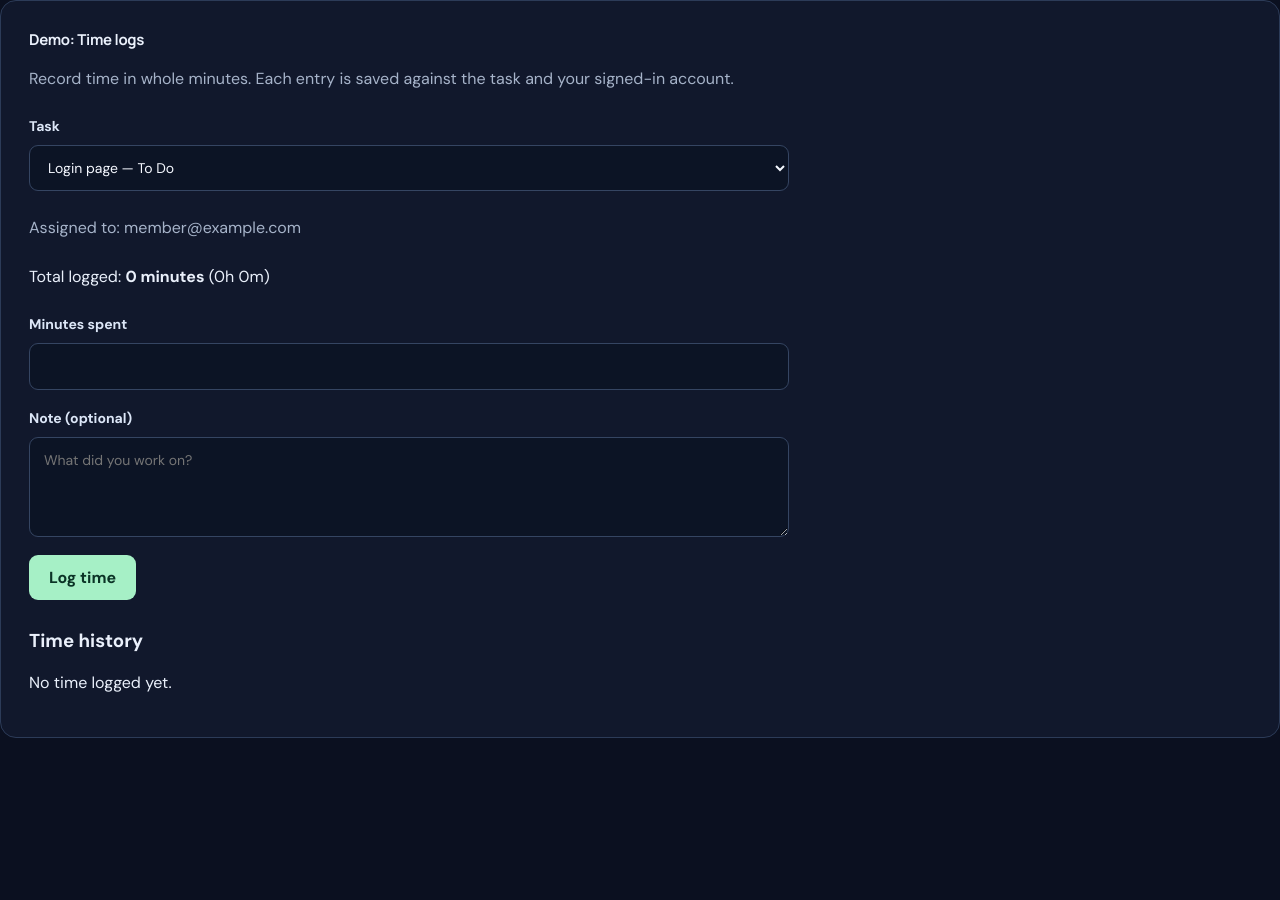
Test: saves numeric minutes and note, refreshes total and clears form
Expected: the text "No time logged yet." is shown, [29,672,172,692]
Step 1. Type "30" into the number field labelled "Minutes spent" → (409, 366), box [29,343,789,390]
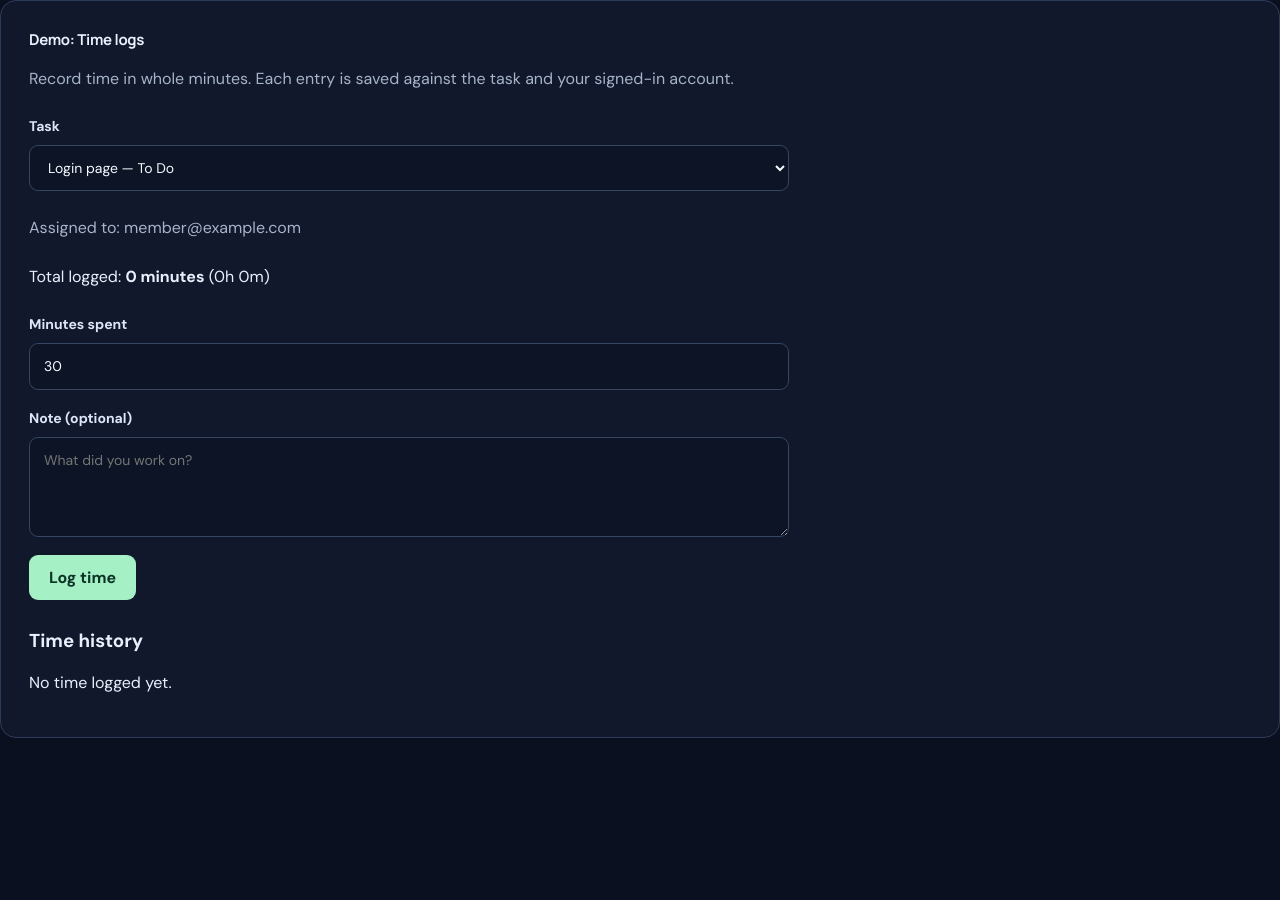
Step 2. Type "Built form" into the text box labelled "Note (optional)" → (409, 487), box [29,437,789,537]
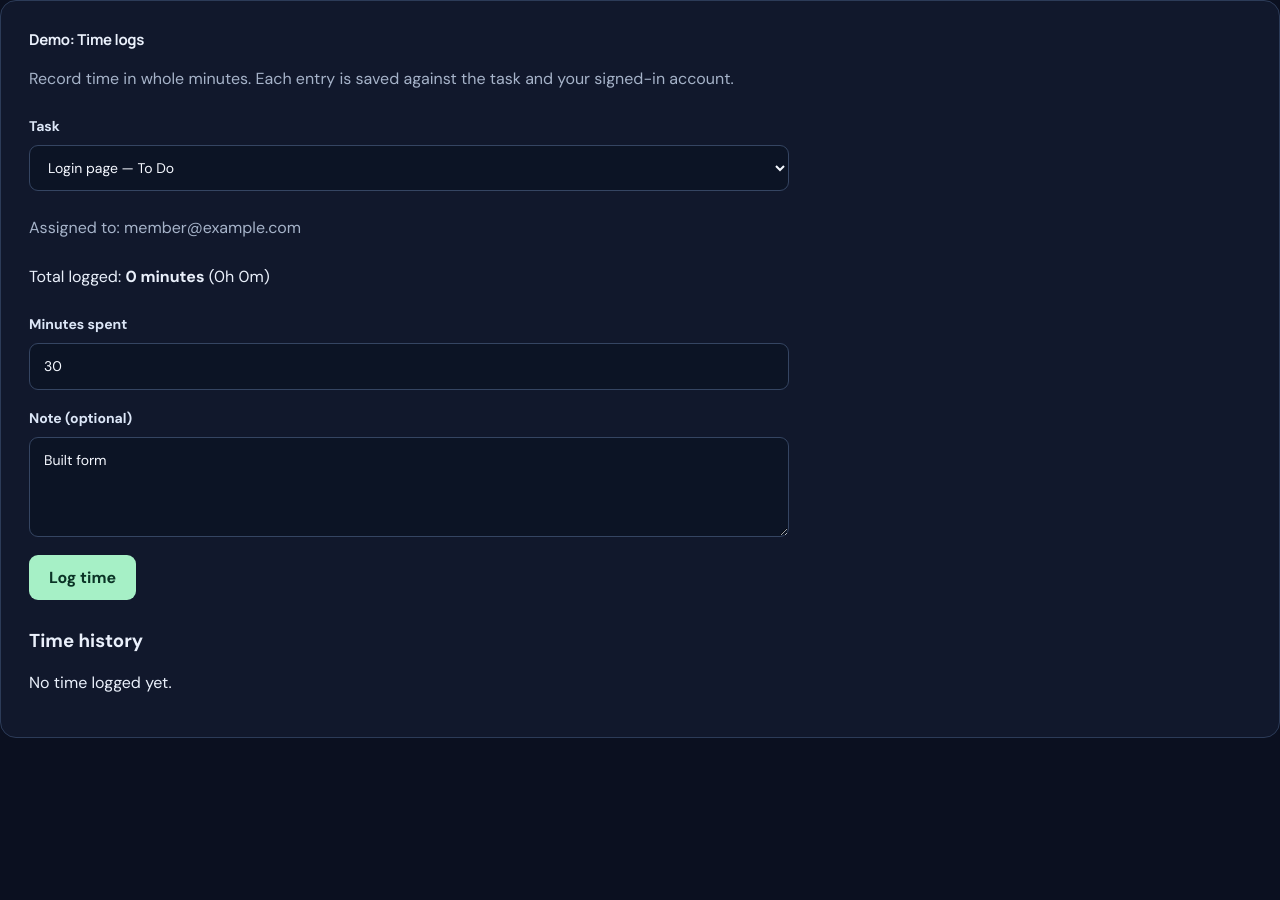
Step 3. Click the button "Log time" → click(83, 577), box [29,555,136,600]
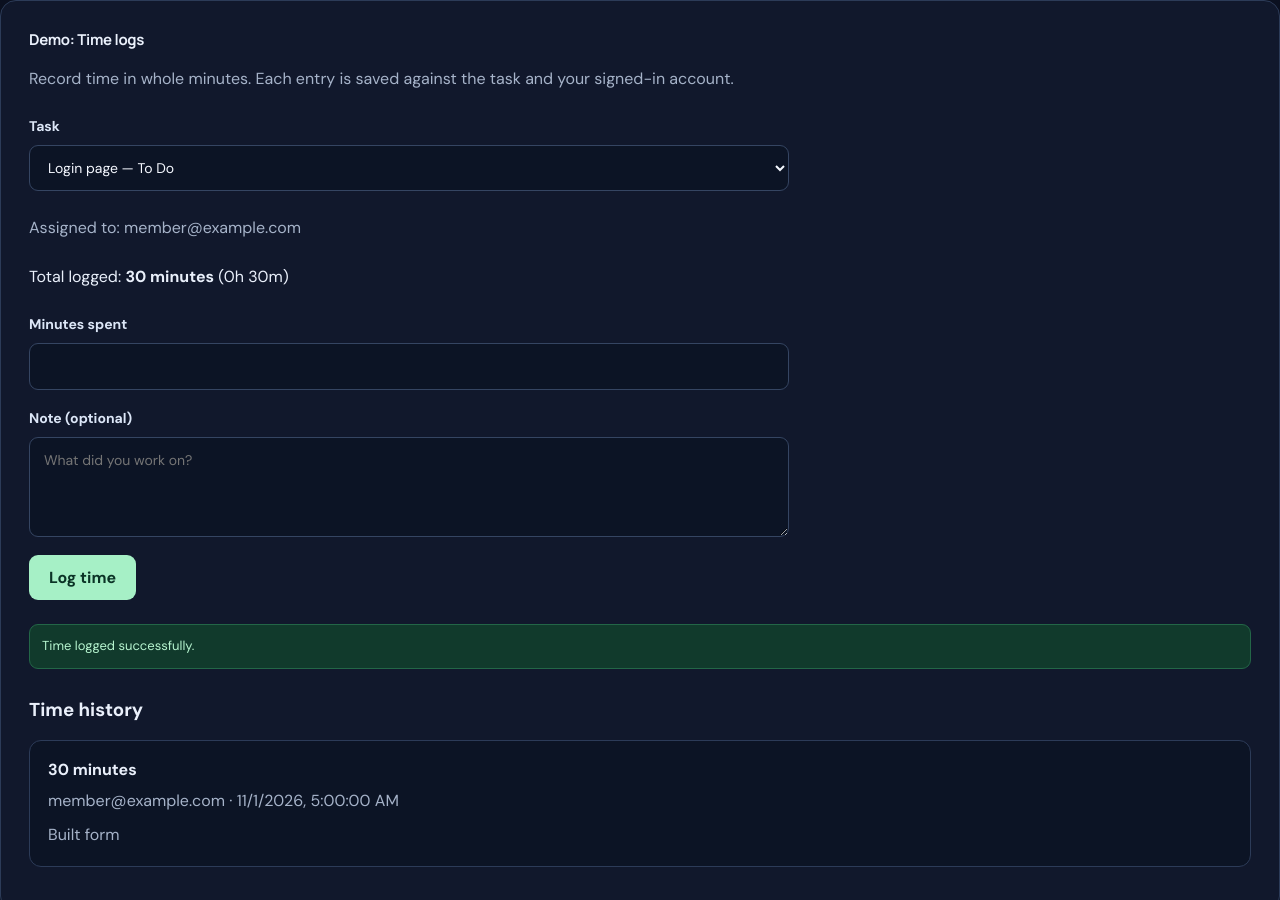
Expected: the message reads "Time logged successfully.", [42,637,194,654]
Expected: the text "Built form" is shown, [48,824,120,845]
Expected: the text "Total logged: 30 minutes (0h 30m)" is shown, [29,266,289,287]
